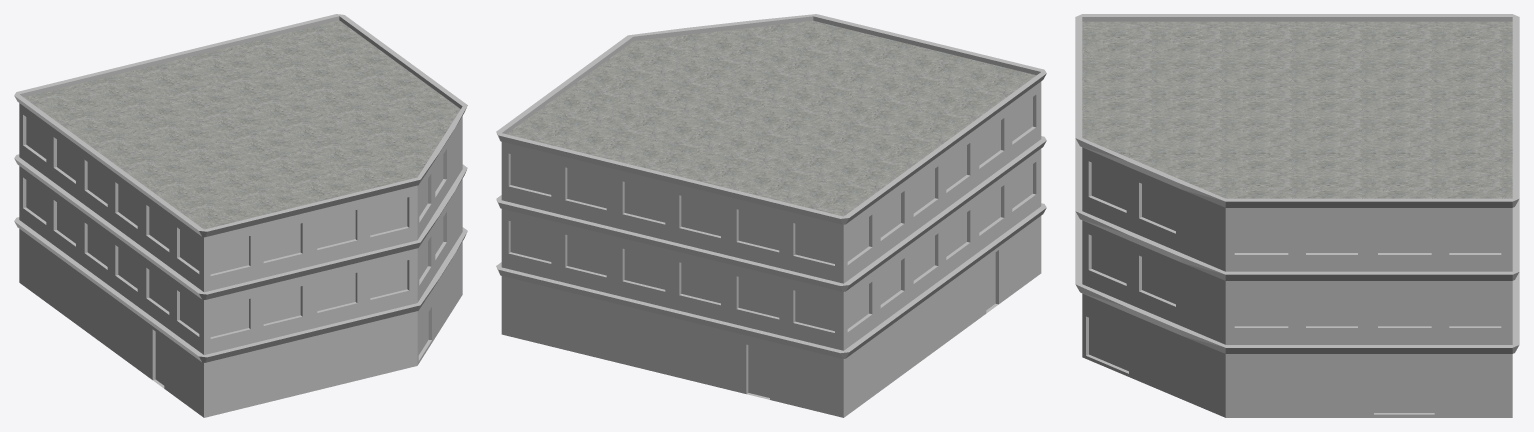
Rendered from RV_Building_Type_A_003.fbx.
3 renders of one model, left to right at view 1: azimuth 30°, elevation 25°; view 2: azimuth 150°, elevation 25°; view 3: azimuth 270°, elevation 25°, orthographic. The views are drawn at different scales.
Parts seen in each view (by area): view 1: RV_Building_Type_A_003; view 2: RV_Building_Type_A_003; view 3: RV_Building_Type_A_003.
Boxes of the visible parts, box(x1,y1,x2,y2) form: RV_Building_Type_A_003: box(14, 14, 467, 417); RV_Building_Type_A_003: box(496, 14, 1046, 417); RV_Building_Type_A_003: box(1075, 14, 1519, 417).
Size of the model in its own units: 1586 by 864 by 1586.
